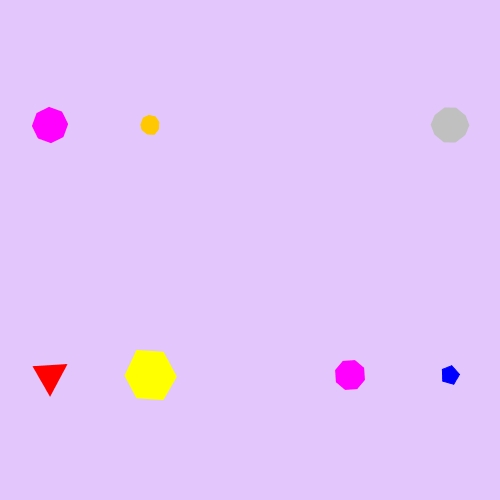decagon: (427, 104, 473, 147)
hexagon: (119, 349, 182, 401)
nonagon: (136, 111, 165, 139)
octagon: (28, 103, 72, 147), (330, 355, 370, 395)
pentagon: (436, 361, 464, 389)
triangle: (31, 355, 70, 396)
